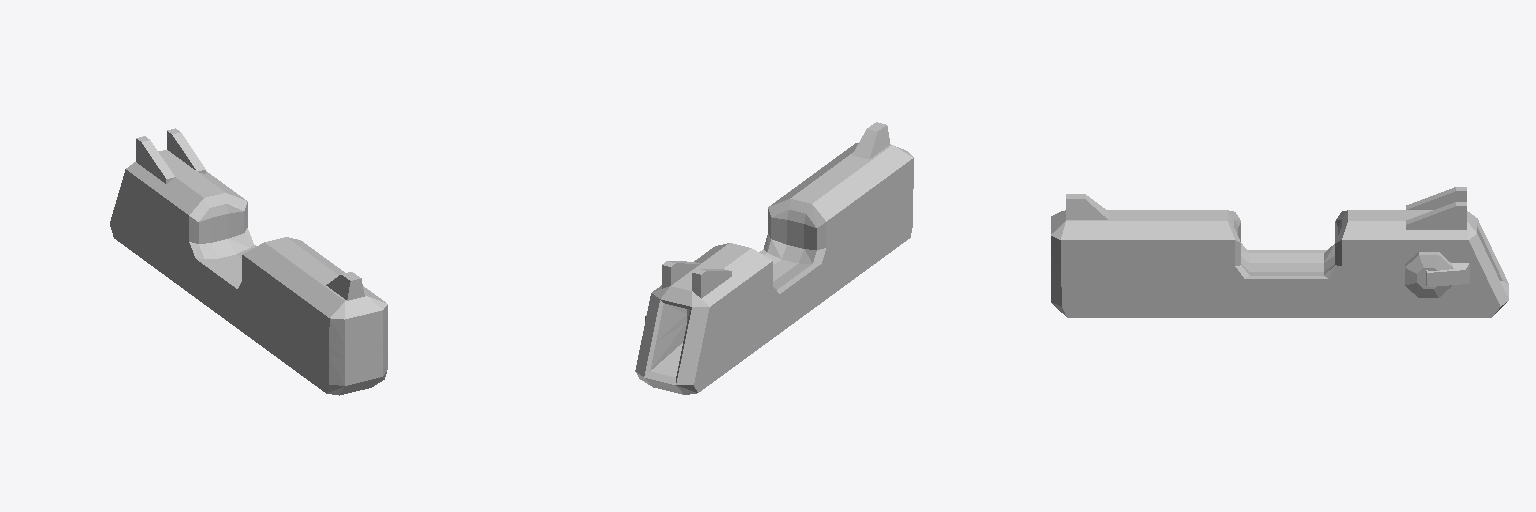
Rendered from Pistol_Bolt.obj.
3 views of the same model, side by side, from view 1: azimuth 30°, elevation 25°; view 2: azimuth 150°, elevation 25°; view 3: azimuth 270°, elevation 25° (orthographic).
Visible parts, largest first — view 1: Pistol_bolt; view 2: Pistol_bolt; view 3: Pistol_bolt.
Boxes of the visible parts, box(x1,y1,x2,y2) form: Pistol_bolt: box(110, 128, 387, 395); Pistol_bolt: box(635, 122, 913, 394); Pistol_bolt: box(1051, 187, 1508, 317).
Size of the model in its own units: 2.01 by 2.98 by 11.04.